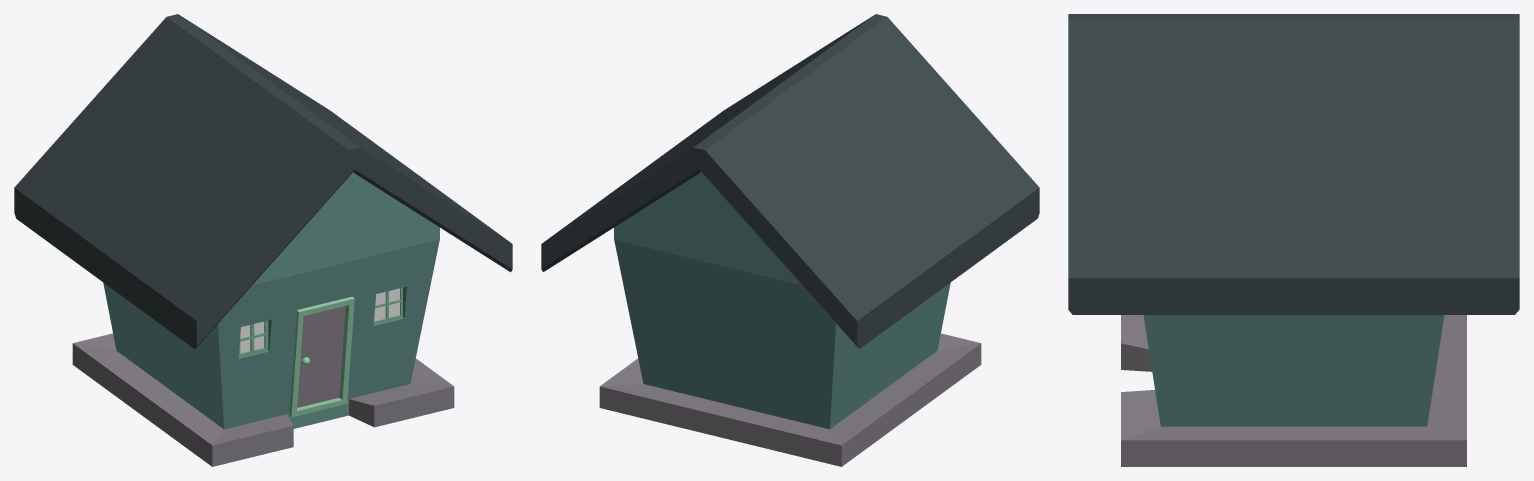
The model's file is HOUSE 1 (GREEN).fbx.
3 views of the same model, side by side, from view 1: azimuth 30°, elevation 25°; view 2: azimuth 150°, elevation 25°; view 3: azimuth 270°, elevation 25° (orthographic). The views are drawn at different scales.
Parts seen in each view (by area): view 1: Roof, House, Door, Front Windows; view 2: Roof, House; view 3: Roof, House.
Boxes of the visible parts, left/top/right/bottom form: Roof: left=14, top=14, right=512, bottom=349; House: left=72, top=172, right=454, bottom=466; Door: left=289, top=296, right=354, bottom=417; Front Windows: left=238, top=287, right=402, bottom=357; Roof: left=541, top=14, right=1039, bottom=349; House: left=599, top=172, right=981, bottom=466; Roof: left=1068, top=14, right=1519, bottom=314; House: left=1121, top=315, right=1466, bottom=466.
Size of the model in its own units: 1130 by 1040 by 1130.
